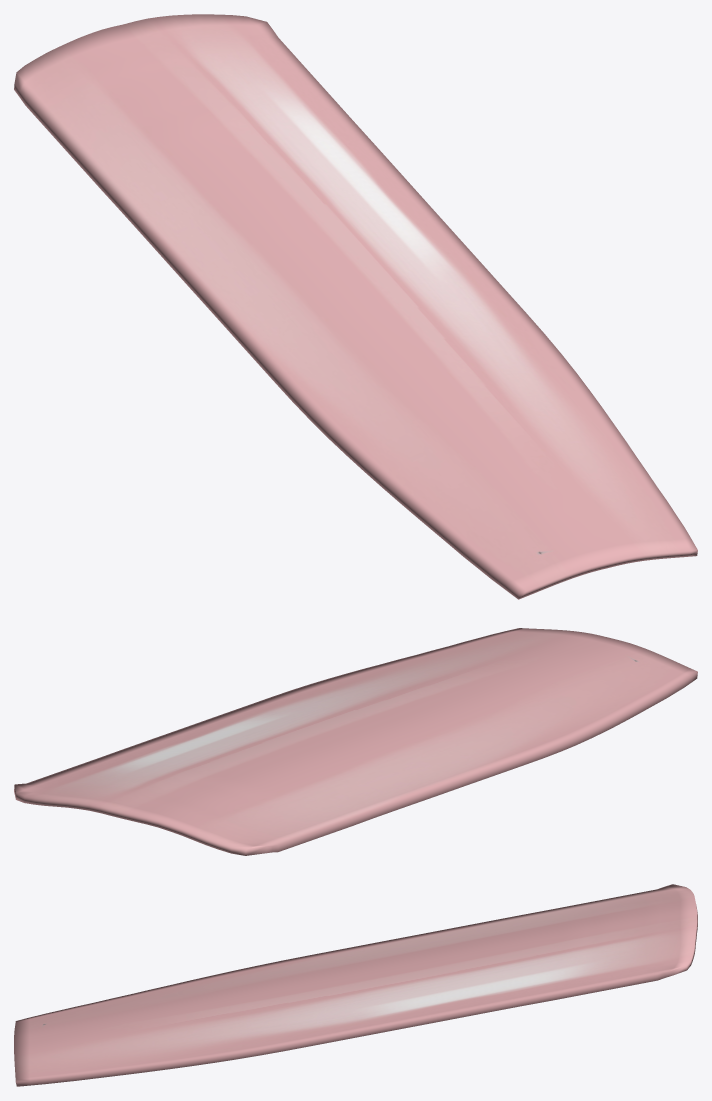
Rendered from Acrylic Nail shape _with filing.fbx.
3 renders of one model, top to bottom at view 1: azimuth 30°, elevation 25°; view 2: azimuth 150°, elevation 25°; view 3: azimuth 270°, elevation 25°, orthographic. The views are drawn at different scales.
Visible parts, largest first — view 1: Acrylic nail filing; view 2: Acrylic nail filing; view 3: Acrylic nail filing.
Part boxes in pixels (x1,y1,x2,y2): Acrylic nail filing: [14, 14, 697, 599]; Acrylic nail filing: [14, 628, 697, 855]; Acrylic nail filing: [14, 884, 697, 1086].
Size of the model in its own units: 80.2 by 60.47 by 268.
1 material, 1 textured.
